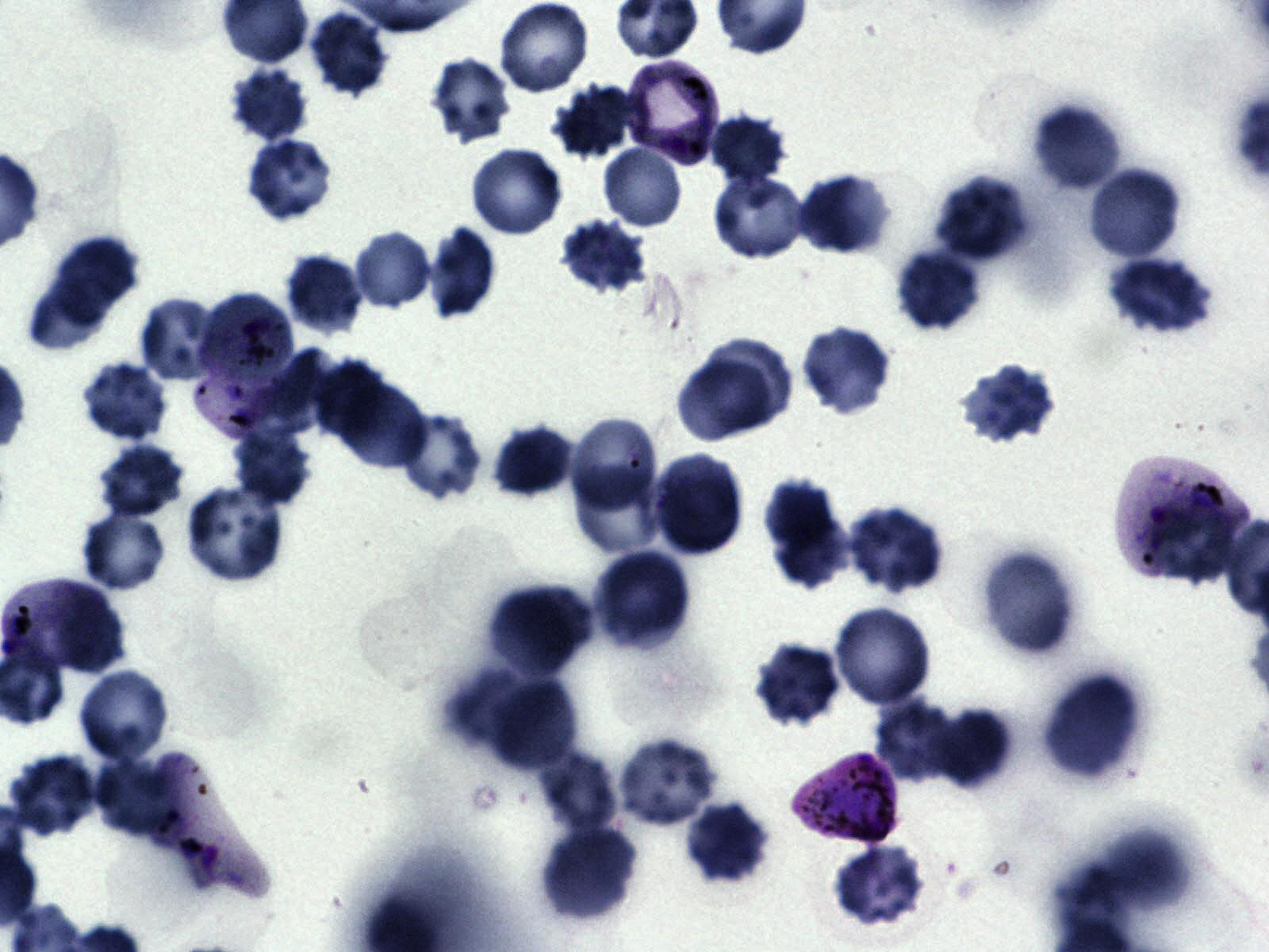Infected: (148, 751, 271, 900), (1118, 458, 1251, 578), (623, 59, 723, 166), (792, 751, 902, 843), (1, 575, 104, 669), (200, 291, 298, 383), (192, 367, 288, 444)
Uninfected: (832, 605, 934, 710), (1041, 673, 1138, 782), (593, 548, 692, 654), (184, 483, 287, 582), (981, 549, 1074, 658), (487, 582, 592, 675), (484, 671, 577, 776), (540, 822, 638, 921), (654, 453, 745, 559), (75, 669, 173, 765), (616, 739, 716, 833), (567, 415, 660, 515), (495, 1, 593, 95), (1087, 167, 1183, 261), (467, 146, 565, 238), (339, 377, 430, 472), (700, 335, 792, 428), (50, 228, 138, 324), (1030, 104, 1123, 194), (935, 176, 1029, 265), (572, 463, 663, 554), (849, 505, 943, 593), (1110, 255, 1212, 336), (395, 413, 486, 503), (715, 174, 807, 263), (762, 481, 843, 579), (673, 359, 767, 443), (796, 172, 891, 255), (832, 846, 926, 929), (682, 800, 771, 886), (893, 248, 983, 333), (802, 328, 891, 413), (246, 139, 336, 223), (963, 363, 1056, 443), (600, 145, 686, 231), (79, 510, 167, 594), (931, 704, 1014, 793), (538, 747, 619, 838), (430, 56, 515, 142), (137, 298, 224, 382), (754, 645, 842, 728), (10, 755, 96, 839), (873, 700, 957, 785), (87, 756, 174, 838), (559, 217, 646, 296), (230, 426, 313, 508), (82, 363, 170, 440), (98, 443, 186, 520), (312, 13, 390, 97), (493, 425, 577, 502), (428, 225, 495, 321), (230, 64, 310, 144), (29, 273, 110, 352), (355, 233, 433, 311), (708, 111, 787, 187), (315, 357, 385, 439), (555, 85, 631, 160), (290, 257, 358, 339)
